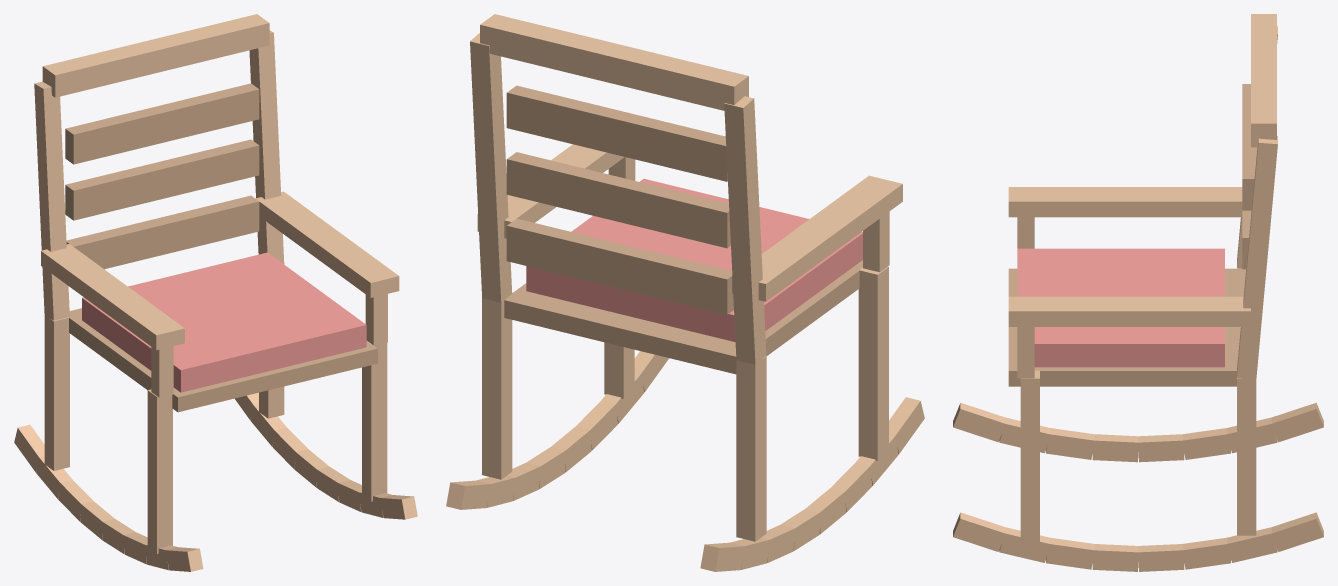
Rendered from armchairRocking.glb.
3 views of the same model, side by side, from view 1: azimuth 30°, elevation 25°; view 2: azimuth 150°, elevation 25°; view 3: azimuth 270°, elevation 25° (orthographic). The views are drawn at different scales.
Visible parts, largest first — view 1: armchairRocking; view 2: armchairRocking; view 3: armchairRocking.
Part boxes in pixels (<box>): armchairRocking: <box>14,14,417,571</box>; armchairRocking: <box>446,14,924,571</box>; armchairRocking: <box>953,14,1323,571</box>.
Size of the model in its own units: 0.34 by 0.5675 by 0.4285.
